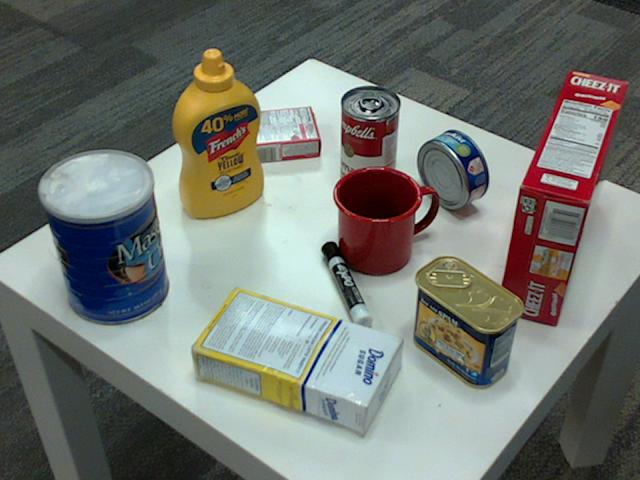cracker_box: (495, 69, 627, 323)
gelatin_box: (243, 103, 322, 160)
large_marker: (321, 243, 371, 333)
master_chef_can: (35, 150, 166, 326)
mug: (331, 164, 434, 272)
mustard_bottle: (171, 49, 264, 217)
potted_meat_can: (410, 255, 524, 387)
sugar_box: (185, 284, 400, 431)
tomato_soup_can: (339, 86, 399, 190)
tuna_fish_can: (416, 129, 487, 208)
